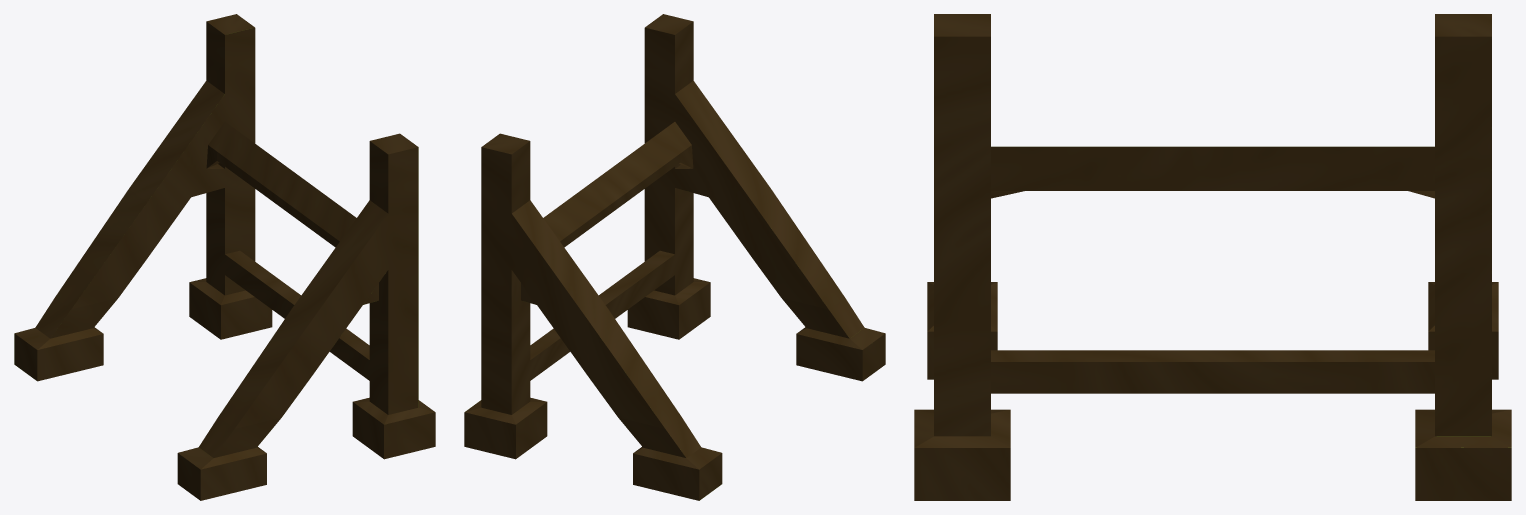
The model's file is weapon rack.fbx.
The picture shows the model from 3 angles, left to right: view 1: azimuth 30°, elevation 25°; view 2: azimuth 150°, elevation 25°; view 3: azimuth 270°, elevation 25°; orthographic projection. The views are drawn at different scales.
Parts seen in each view (by area): view 1: Cube; view 2: Cube; view 3: Cube.
Boxes of the visible parts, x1=… form: Cube: x1=14, y1=14, x2=435, y2=500; Cube: x1=464, y1=14, x2=885, y2=500; Cube: x1=914, y1=14, x2=1511, y2=500.
Bounding box in the file's own units: 8.44 × 10.45 × 12.35.
